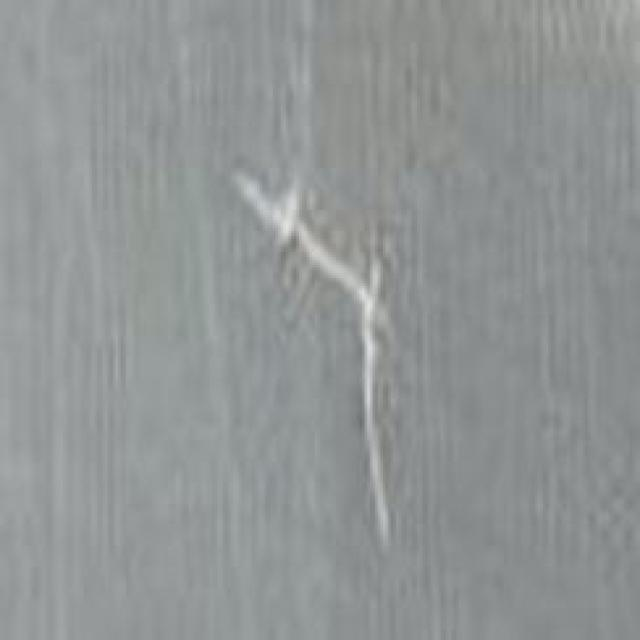stains: (145, 150, 514, 570)
